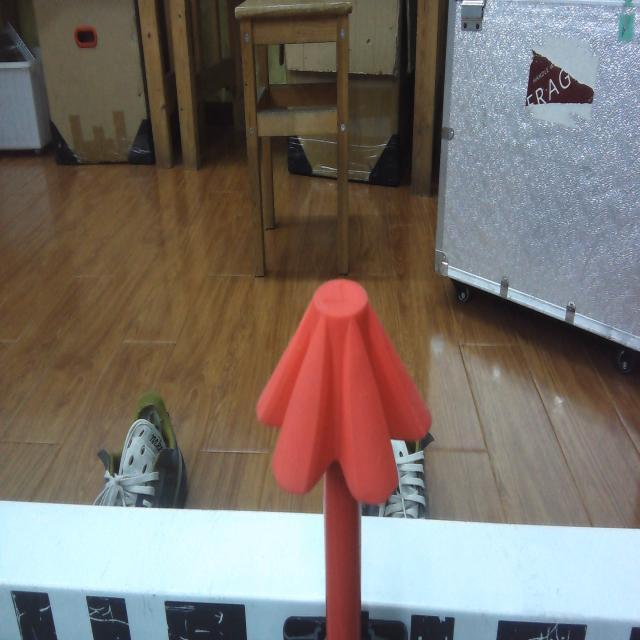zred-Stake-Head: (256, 278, 432, 504)
